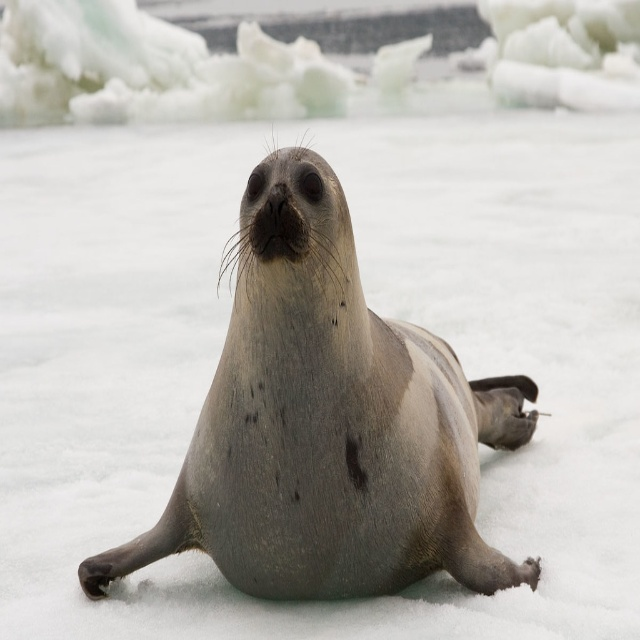Harbor seal: (71, 113, 551, 608)
